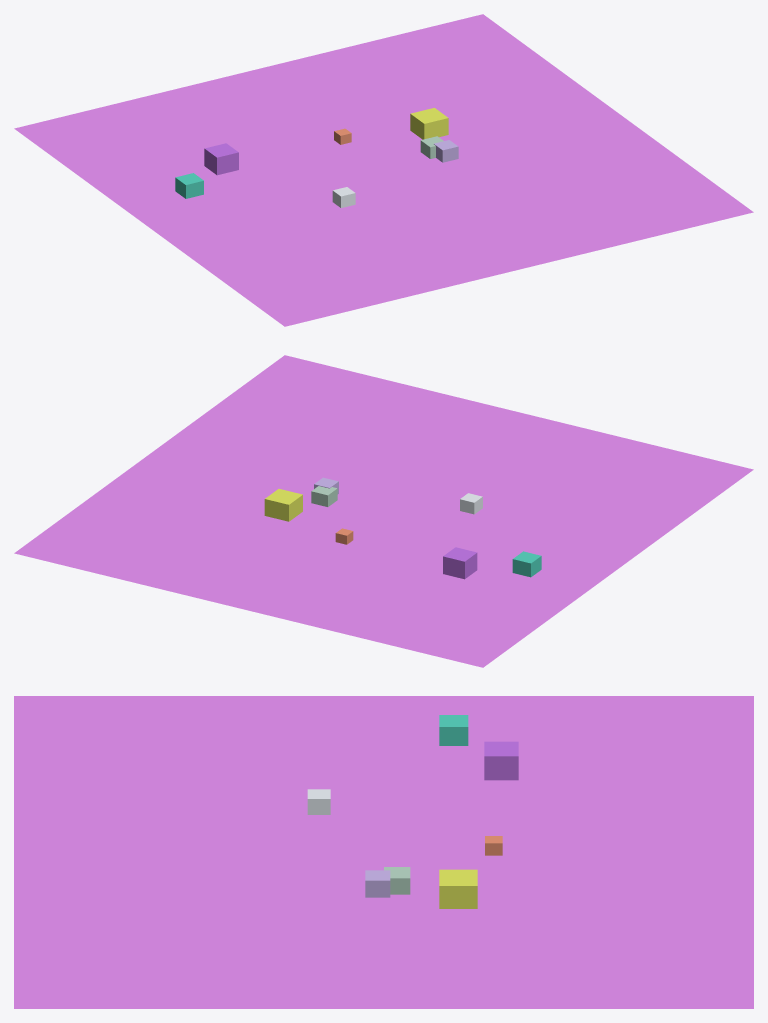
The picture shows the model from 3 angles, top to bottom: view 1: azimuth 30°, elevation 25°; view 2: azimuth 150°, elevation 25°; view 3: azimuth 270°, elevation 25°; orthographic projection. The views are drawn at different scales.
Visible parts, largest first — view 1: Chunk_-2_2; view 2: Chunk_-2_2; view 3: Chunk_-2_2.
Part boxes in pixels (bbox=[...]): Chunk_-2_2: bbox=[14, 14, 753, 326]; Chunk_-2_2: bbox=[14, 355, 753, 667]; Chunk_-2_2: bbox=[14, 696, 753, 1008].
Bounding box in the file's own units: 1500 × 79.84 × 1500.
